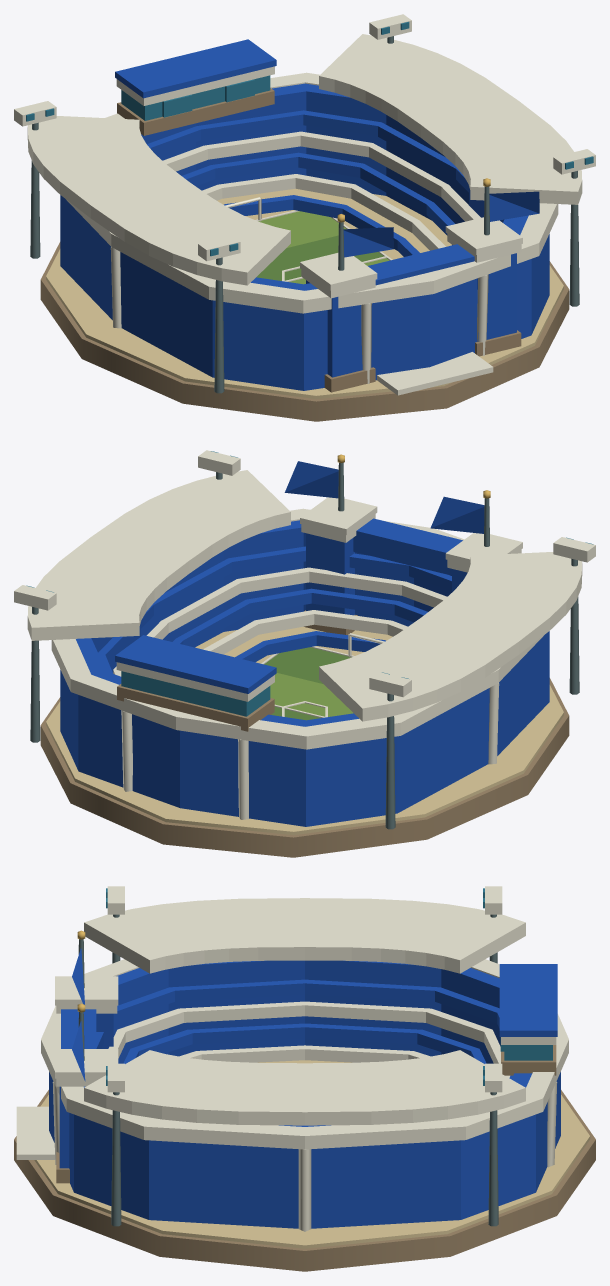
File: main-stadium-lv4.glb
3 renders of one model, top to bottom at view 1: azimuth 30°, elevation 25°; view 2: azimuth 150°, elevation 25°; view 3: azimuth 270°, elevation 25°, orthographic. The views are drawn at different scales.
Visible parts, largest first — view 1: canopy_white, stadium_shell_royal, foundation_stoneDark, seating_royal, foundation_sand, upper_concourse_white, seating_white, media_box_roof_royal, entrance_pylons_royal, entrance_pylons_roof_white, lighting_iron, lighting_white (+14 smaller); view 2: stadium_shell_royal, canopy_white, foundation_stoneDark, foundation_sand, seating_royal, upper_concourse_white, seating_white, media_box_roof_royal, entrance_bridge_royal, entrance_pylons_roof_white, lighting_white, lighting_iron (+10 smaller); view 3: stadium_shell_royal, canopy_white, foundation_stoneDark, upper_concourse_white, seating_royal, seating_white, foundation_sand, media_box_roof_royal, entrance_pylons_roof_white, lighting_iron, facade_ribs_white, lighting_white (+7 smaller).
Part boxes in pixels (left/top/right/bottom): canopy_white: left=27, top=34, right=582, bottom=285; stadium_shell_royal: left=60, top=83, right=549, bottom=390; foundation_stoneDark: left=40, top=242, right=569, bottom=421; seating_royal: left=147, top=110, right=510, bottom=256; foundation_sand: left=46, top=188, right=563, bottom=399; upper_concourse_white: left=66, top=72, right=558, bottom=313; seating_white: left=163, top=131, right=480, bottom=250; media_box_roof_royal: left=115, top=39, right=276, bottom=98; entrance_pylons_royal: left=306, top=245, right=516, bottom=377; entrance_pylons_roof_white: left=300, top=217, right=522, bottom=290; lighting_iron: left=30, top=36, right=579, bottom=393; lighting_white: left=14, top=14, right=595, bottom=261; stadium_shell_royal: left=60, top=520, right=549, bottom=826; canopy_white: left=27, top=470, right=582, bottom=721; foundation_stoneDark: left=40, top=678, right=569, bottom=857; foundation_sand: left=46, top=626, right=563, bottom=835; seating_royal: left=98, top=546, right=451, bottom=673; upper_concourse_white: left=51, top=508, right=543, bottom=749; seating_white: left=113, top=567, right=446, bottom=676; media_box_roof_royal: left=115, top=635, right=276, bottom=693; entrance_bridge_royal: left=353, top=518, right=462, bottom=575; entrance_pylons_roof_white: left=300, top=497, right=522, bottom=565; lighting_white: left=14, top=450, right=595, bottom=697; lighting_iron: left=30, top=472, right=579, bottom=829; stadium_shell_royal: left=49, top=960, right=560, bottom=1228; canopy_white: left=84, top=898, right=525, bottom=1125; foundation_stoneDark: left=14, top=1090, right=595, bottom=1271; upper_concourse_white: left=41, top=959, right=568, bottom=1149; seating_royal: left=96, top=979, right=512, bottom=1079; seating_white: left=108, top=1001, right=509, bottom=1077; foundation_sand: left=34, top=1060, right=590, bottom=1248; media_box_roof_royal: left=499, top=964, right=557, bottom=1036; entrance_pylons_roof_white: left=55, top=976, right=118, bottom=1078; lighting_iron: left=111, top=914, right=498, bottom=1226; facade_ribs_white: left=52, top=1082, right=557, bottom=1231; lighting_white: left=107, top=886, right=502, bottom=1092.
Bounding box in the file's own units: 0.9074 × 0.3662 × 1.
